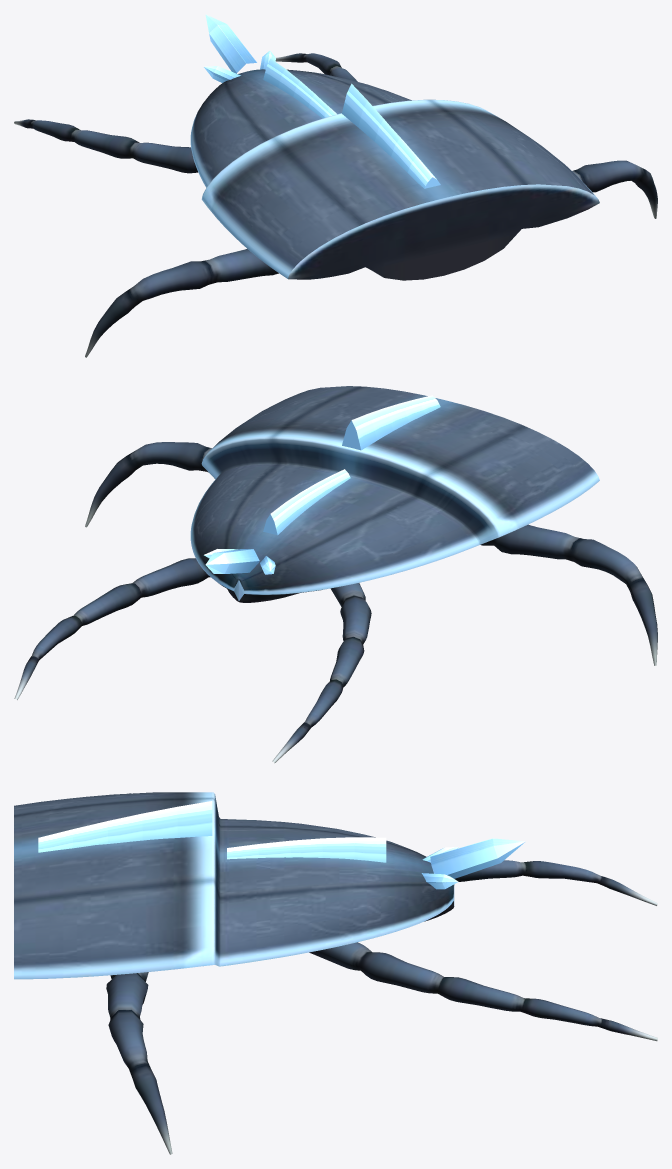
The model's file is centopeia_cauda_v01.glb.
3 renders of one model, top to bottom at view 1: azimuth 30°, elevation 25°; view 2: azimuth 150°, elevation 25°; view 3: azimuth 270°, elevation 25°, orthographic. The views are drawn at different scales.
Bounding box in the file's own units: 1.47 × 0.4668 × 1.33.
Materials: 1 (1 with a texture image).
